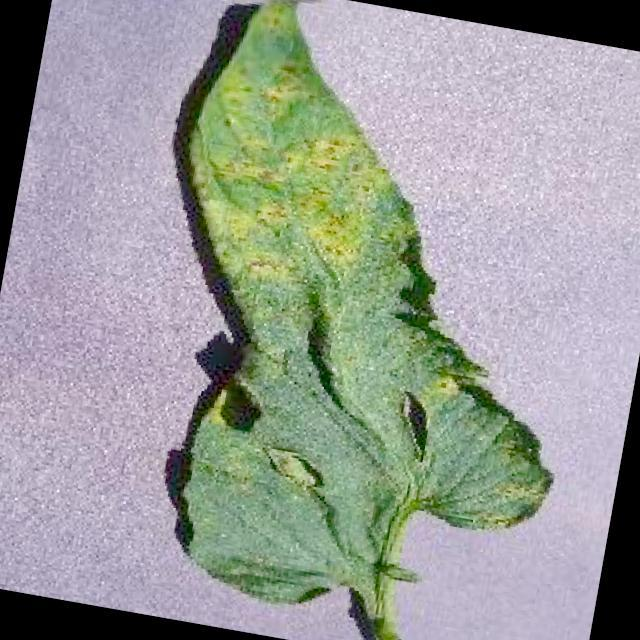Tomato Septoria spot leaf: (110, 0, 630, 640)
